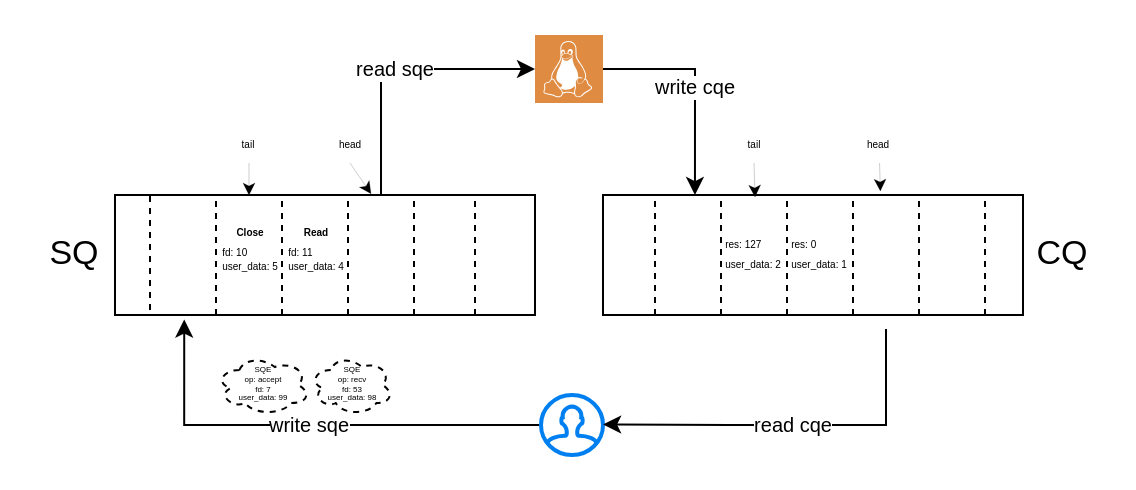
Image size: 1136x490. Some labels were removed from this diagram. Here are the shapes that lost their labels. From the top down, the centre of each, then its label:
the point at 380,254: Write fd: 14 user_data: 3
the point at 885,254: res: 127 user_data: 0
